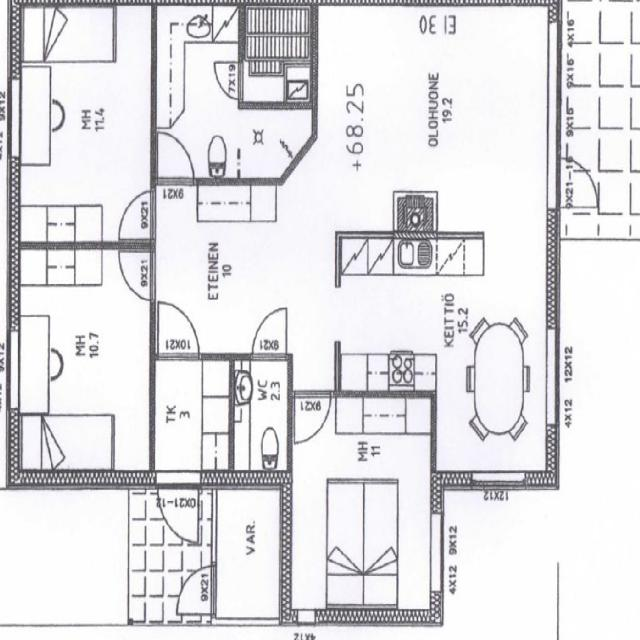door: (157, 470, 199, 546), (158, 296, 199, 360), (547, 157, 597, 206), (158, 126, 194, 184), (294, 390, 330, 448), (176, 566, 217, 614), (115, 252, 155, 301), (115, 191, 155, 239), (253, 306, 286, 359), (211, 61, 244, 99)
